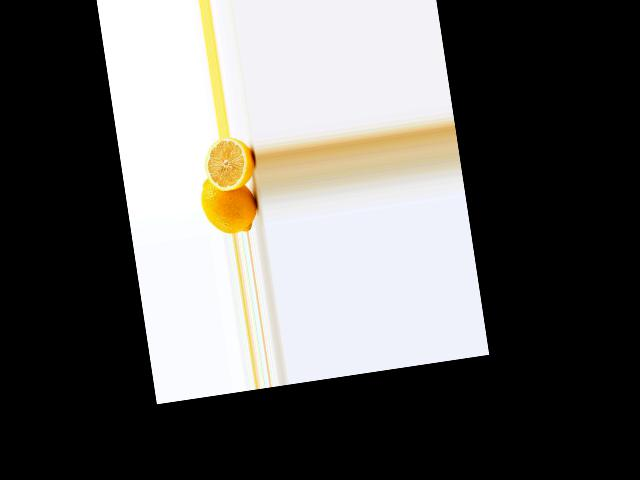lemon: (196, 170, 263, 236)
